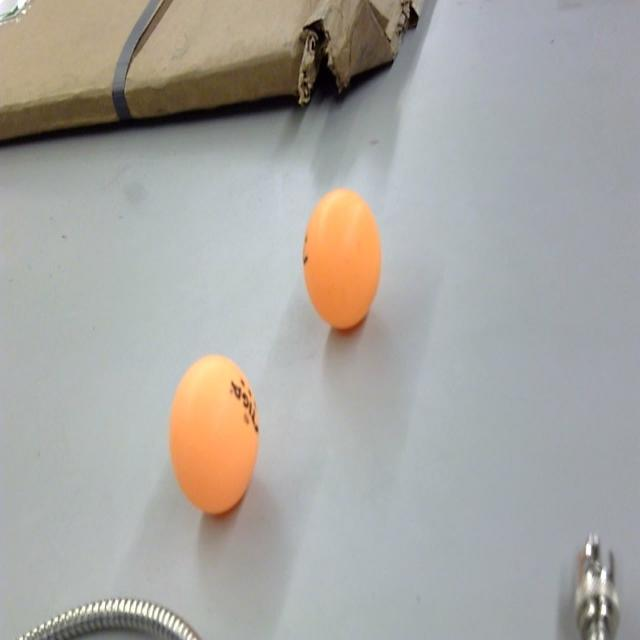ball: (168, 356, 260, 520), (301, 188, 381, 332)
